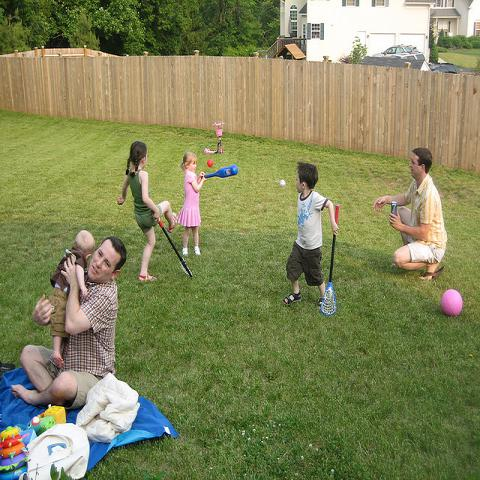car: (372, 42, 423, 58), (430, 63, 474, 74)
